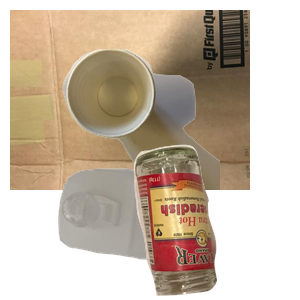cardboard: (10, 10, 250, 190)
glass: (131, 142, 300, 300)
plastic: (56, 166, 241, 300)
trash: (60, 47, 300, 227)
